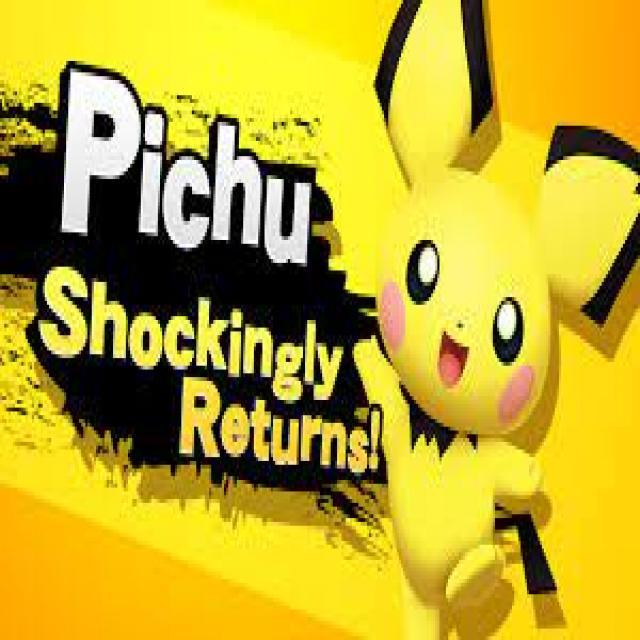pichu: (376, 0, 640, 640)
